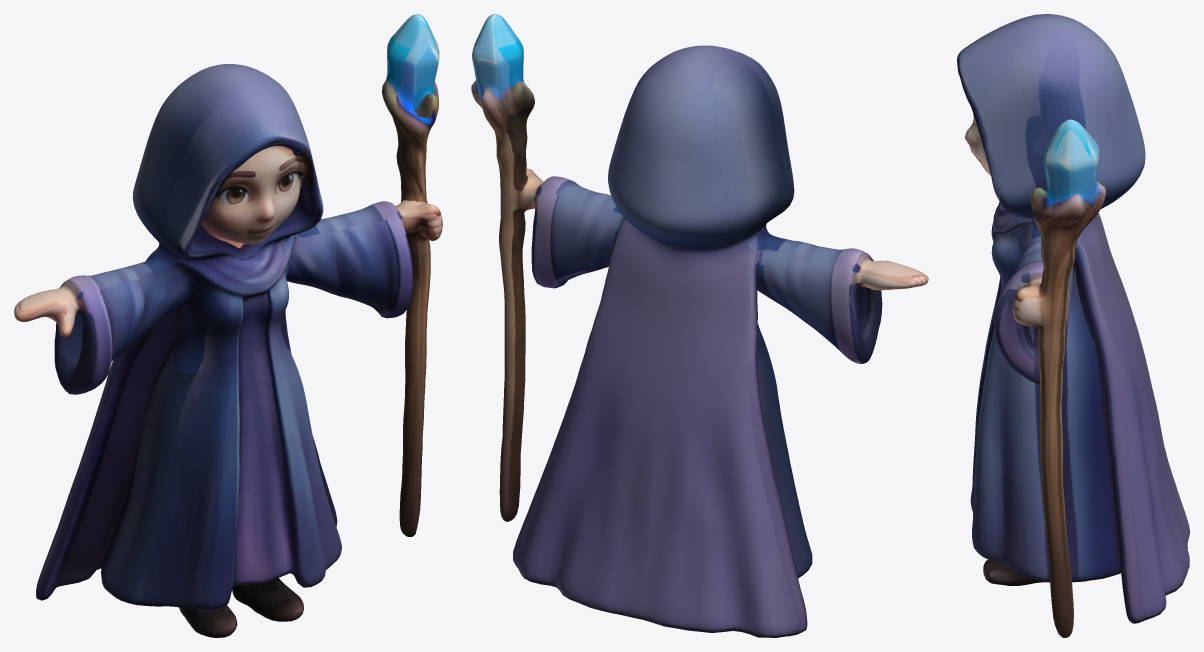
Rendered from anil.glb.
3 renders of one model, left to right at view 1: azimuth 30°, elevation 25°; view 2: azimuth 150°, elevation 25°; view 3: azimuth 270°, elevation 25°, orthographic. The views are drawn at different scales.
Visible parts, largest first — view 1: tmpihva537g; view 2: tmpihva537g; view 3: tmpihva537g.
Part boxes in pixels (x1,y1,x2,y2): tmpihva537g: (14, 14, 442, 637); tmpihva537g: (471, 14, 928, 637); tmpihva537g: (957, 14, 1189, 637).
Size of the model in its own units: 0.7734 by 0.9 by 0.349.
1 material, 1 textured.
